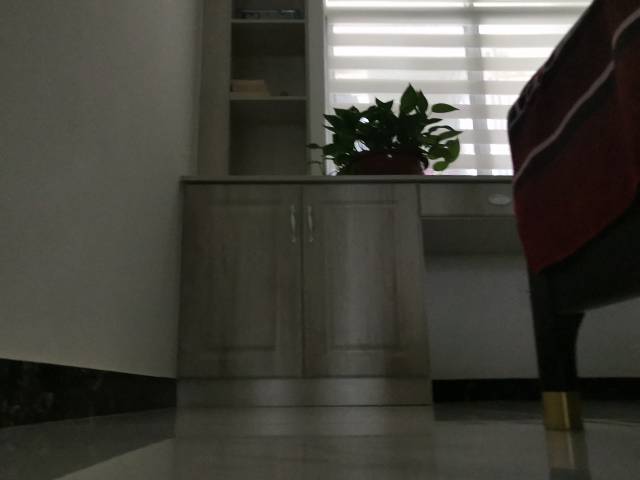bed: (502, 1, 640, 434)
cabinet: (175, 173, 432, 406)
